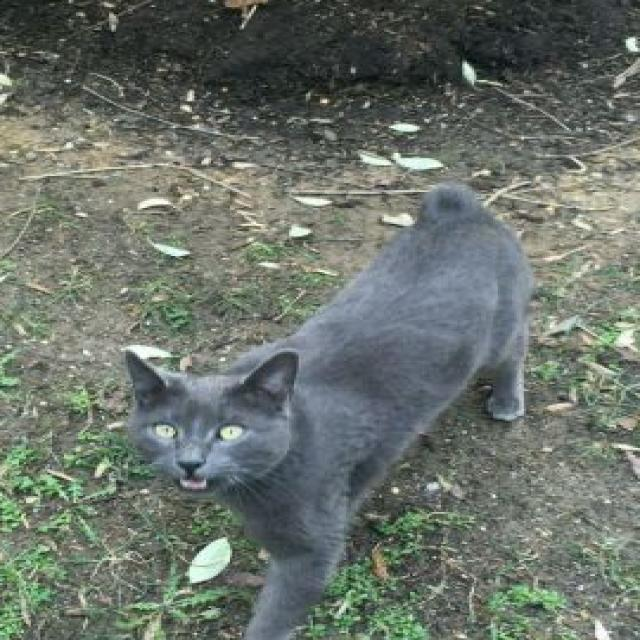American Bobtail: (114, 178, 538, 640)
